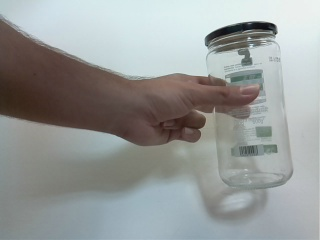pote cristal: (202, 20, 298, 194)
